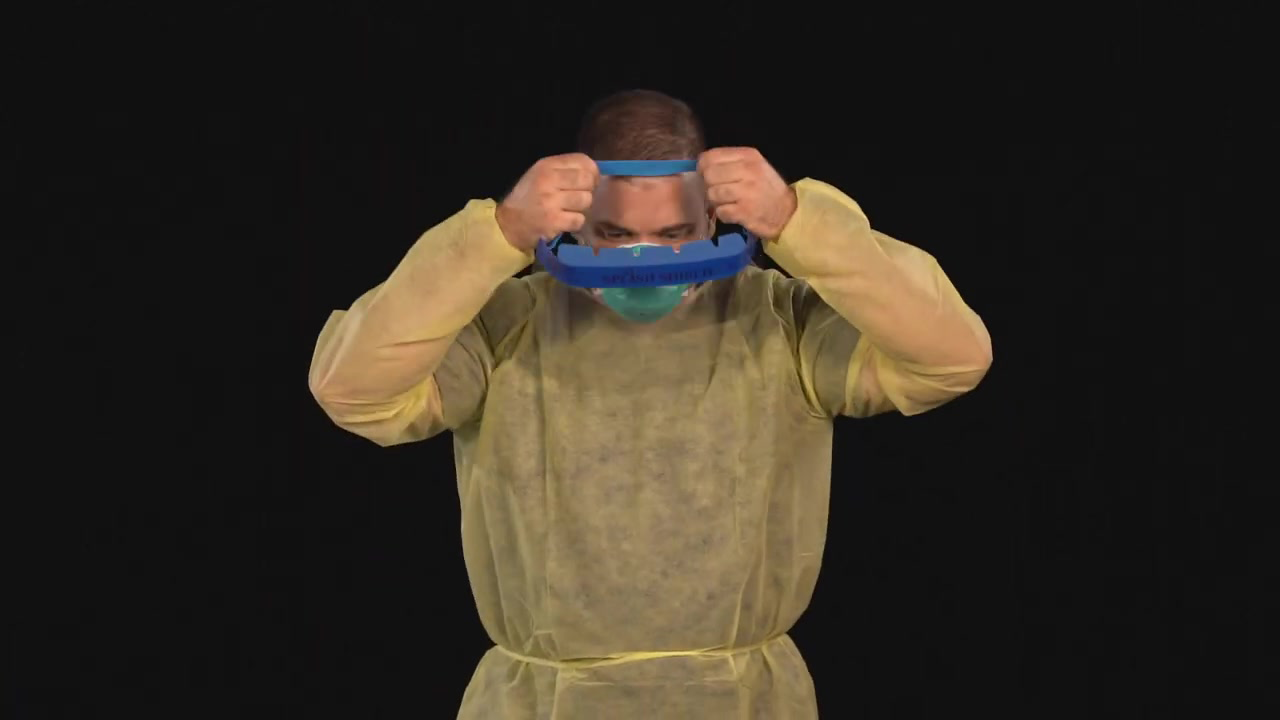Coverall: (288, 186, 997, 720)
Face_Shield: (549, 242, 763, 396)
with_mask: (592, 285, 696, 324)
